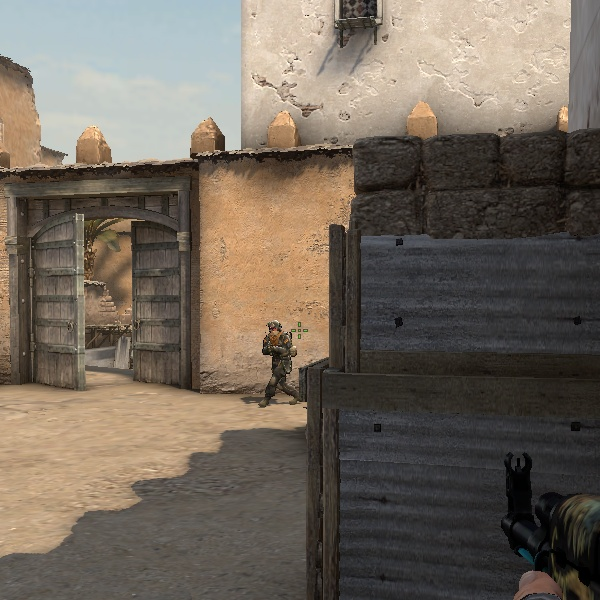ct_body: (252, 317, 302, 406)
